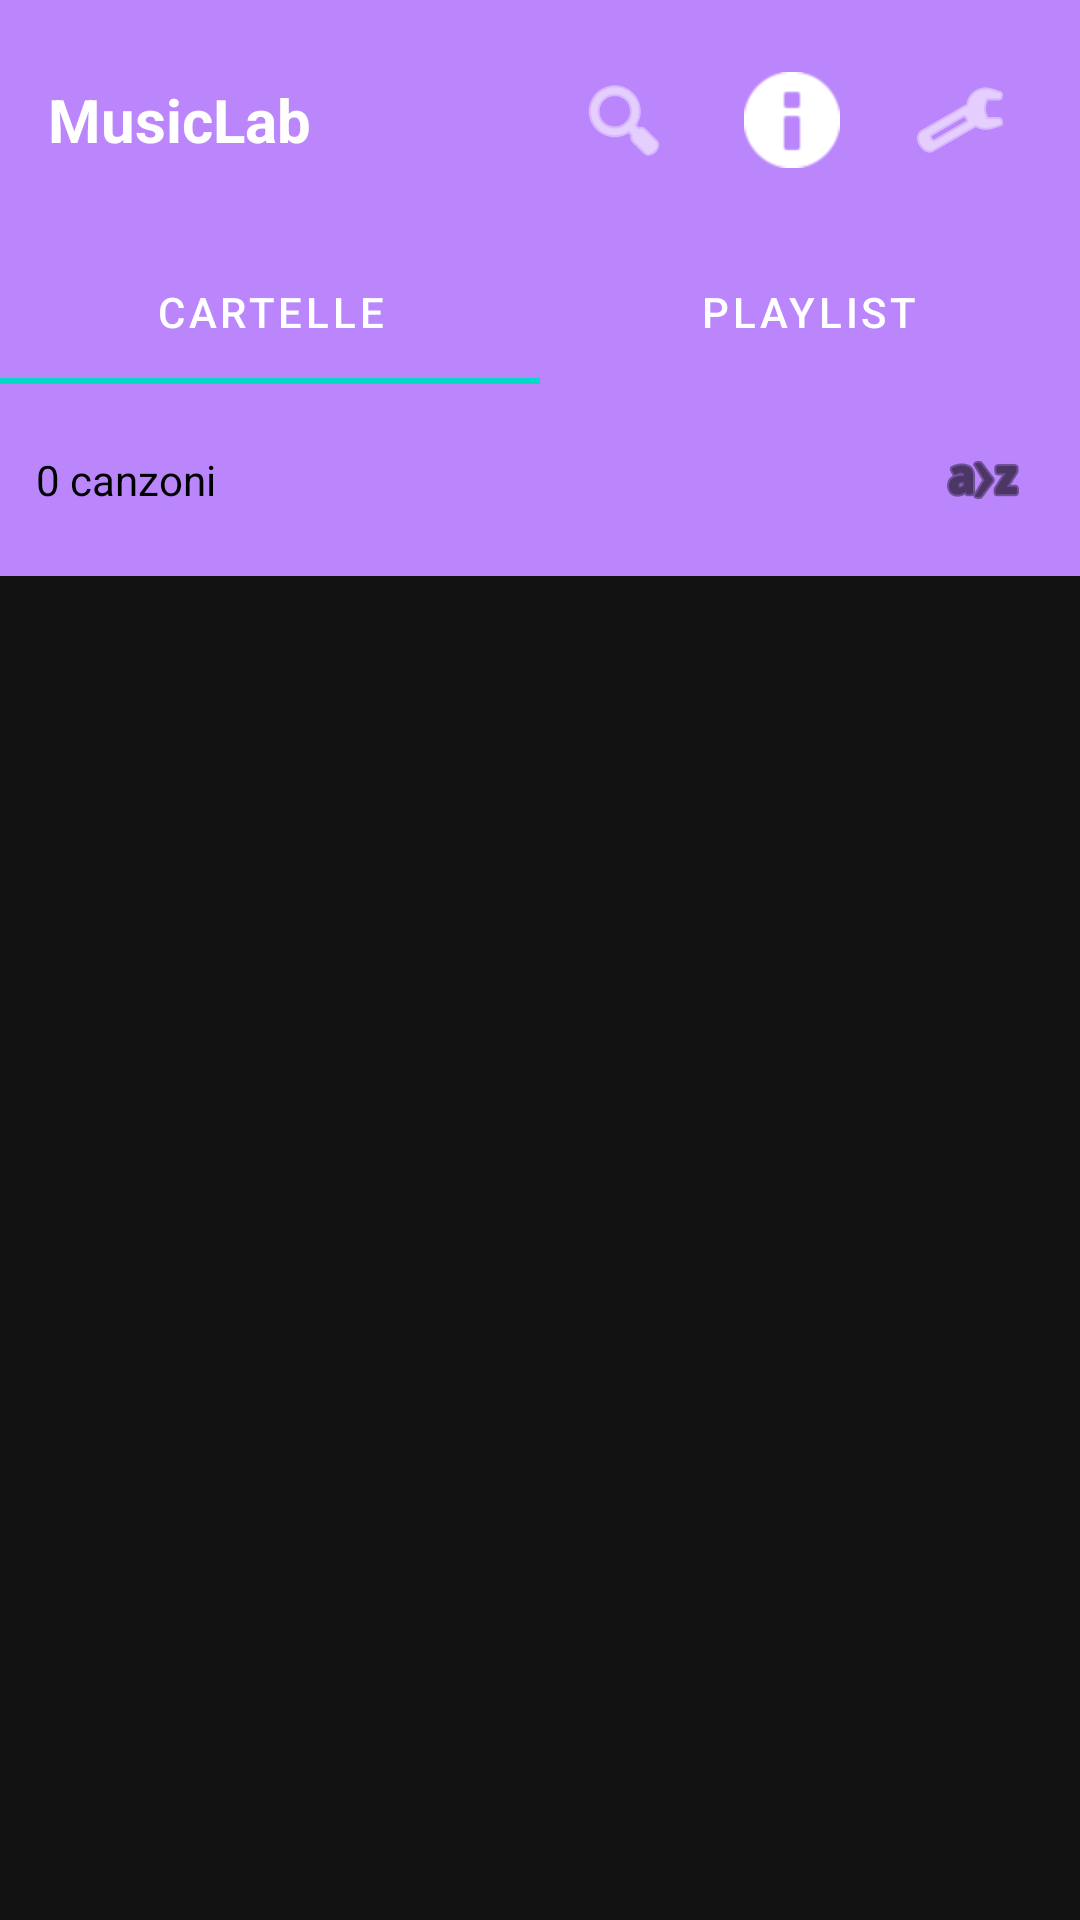

Where to tap for icons on this 1080×1920 app screen, as (x=x, y=y):
Cerca: (x=624, y=120)
Impostazioni: (x=960, y=120)
Ordina canzoni: (x=983, y=480)
